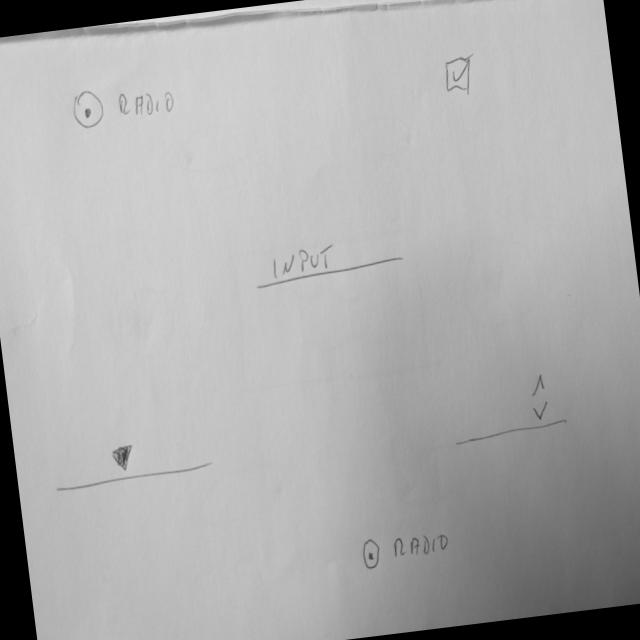checkbox: (441, 52, 478, 99)
input: (251, 234, 409, 295)
number-input: (444, 368, 573, 451)
radio: (70, 79, 180, 136), (360, 526, 456, 574)
